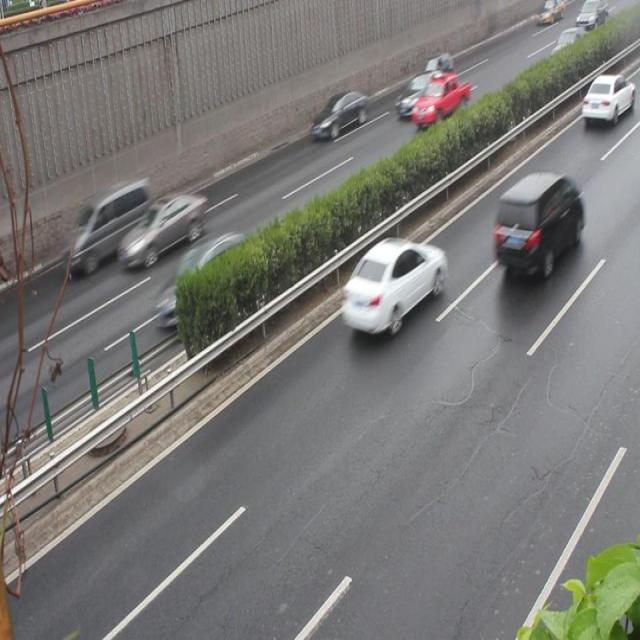car: (341, 235, 444, 332), (493, 168, 582, 270), (122, 187, 204, 273), (168, 229, 253, 307), (310, 88, 368, 141), (411, 70, 467, 122), (579, 70, 630, 122), (393, 68, 444, 116)
